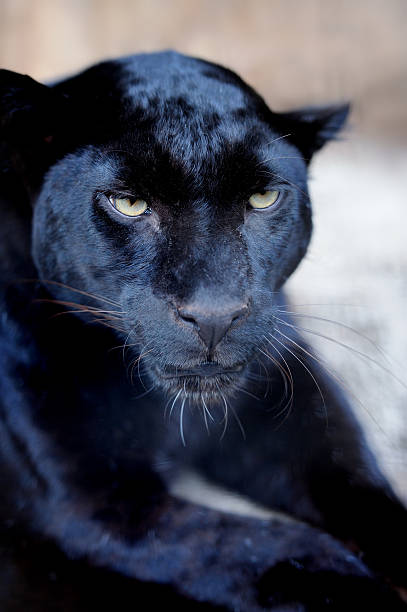panther: (2, 42, 379, 463)
